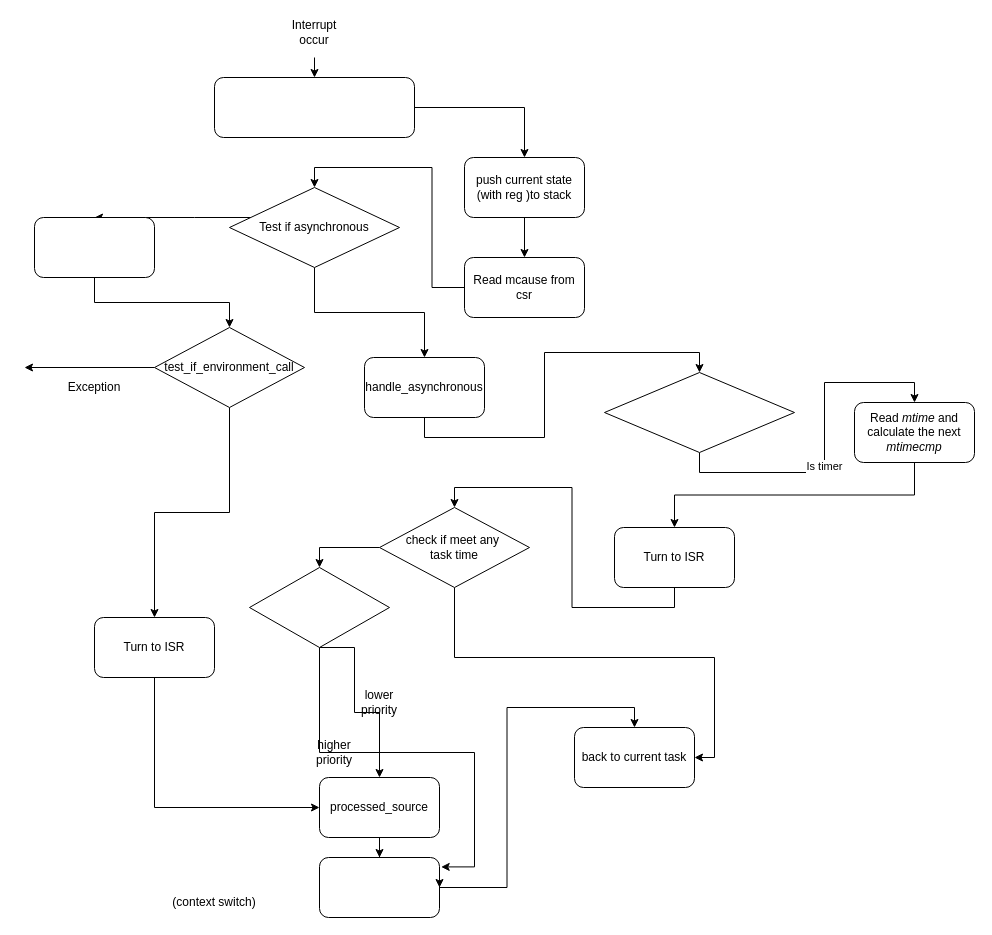
Some shapes in this 992 by 935 pixel diagram are drawn without their labels. Here are the shapes that lost their labels. From the top down, the centre of each, then its label:
At point (314, 107): "freertos_risc_v_trap_handler".
At point (94, 247): "handle_synchronous".
At point (699, 412): "test_if_external_interrupt".
At point (319, 607): "change it to ready list".
At point (379, 887): "Set current task to the highest priortty one".
